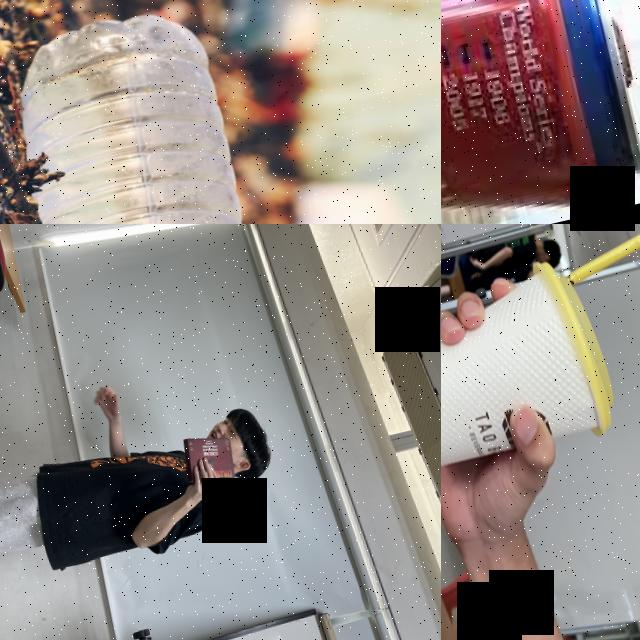can: (441, 0, 640, 224)
cup: (441, 250, 623, 480)
